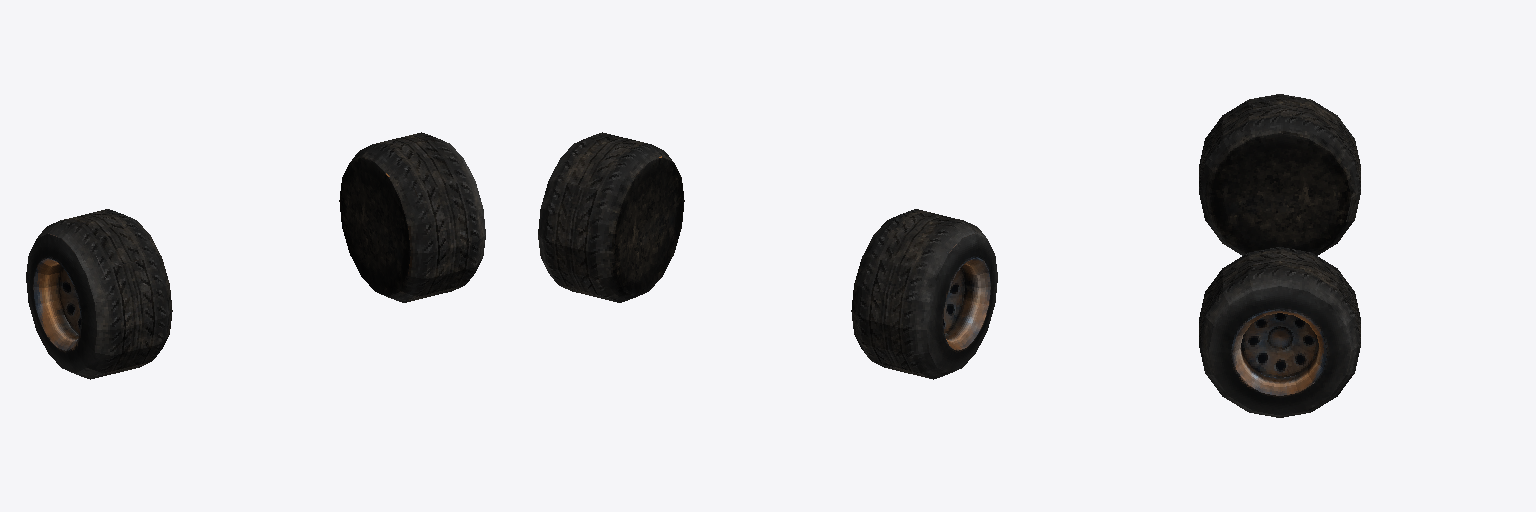
3 views of the same model, side by side, from view 1: azimuth 30°, elevation 25°; view 2: azimuth 150°, elevation 25°; view 3: azimuth 270°, elevation 25° (orthographic).
Visible parts, largest first — view 1: Camaro_Warrior_RearWheels; view 2: Camaro_Warrior_RearWheels; view 3: Camaro_Warrior_RearWheels.
Boxes of the visible parts, x1=… form: Camaro_Warrior_RearWheels: x1=26, y1=132, x2=485, y2=379; Camaro_Warrior_RearWheels: x1=538, y1=132, x2=997, y2=379; Camaro_Warrior_RearWheels: x1=1199, y1=94, x2=1360, y2=417.
Bounding box in the file's own units: 17.36 × 6.14 × 6.14.
Materials: 1 (1 with a texture image).